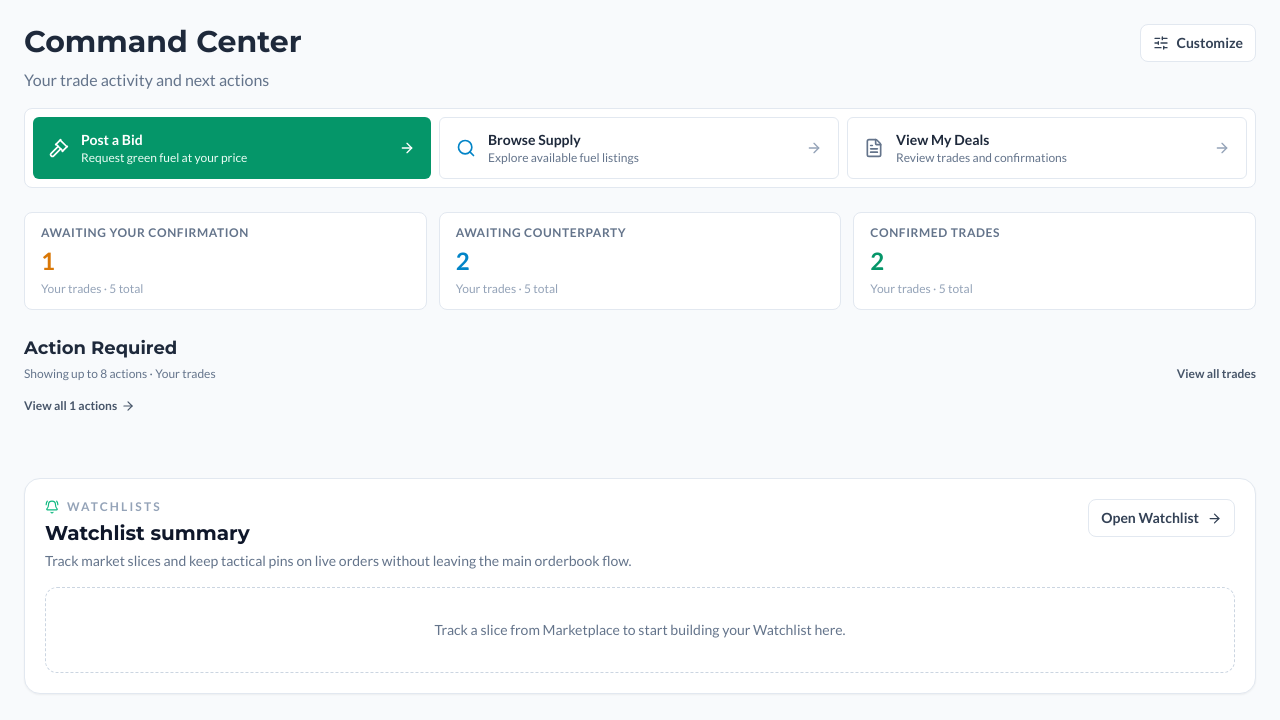
Scenario: customizable home › when the layout cannot be read › keeps edits in memory when saving is refused with 404
The width and height of the screenshot is (1280, 720).
Expected: the heading "Command Center" is shown, [24,24,302,60]
Click the button "Customize".
click(1198, 43)  # box [1140,24,1256,62]
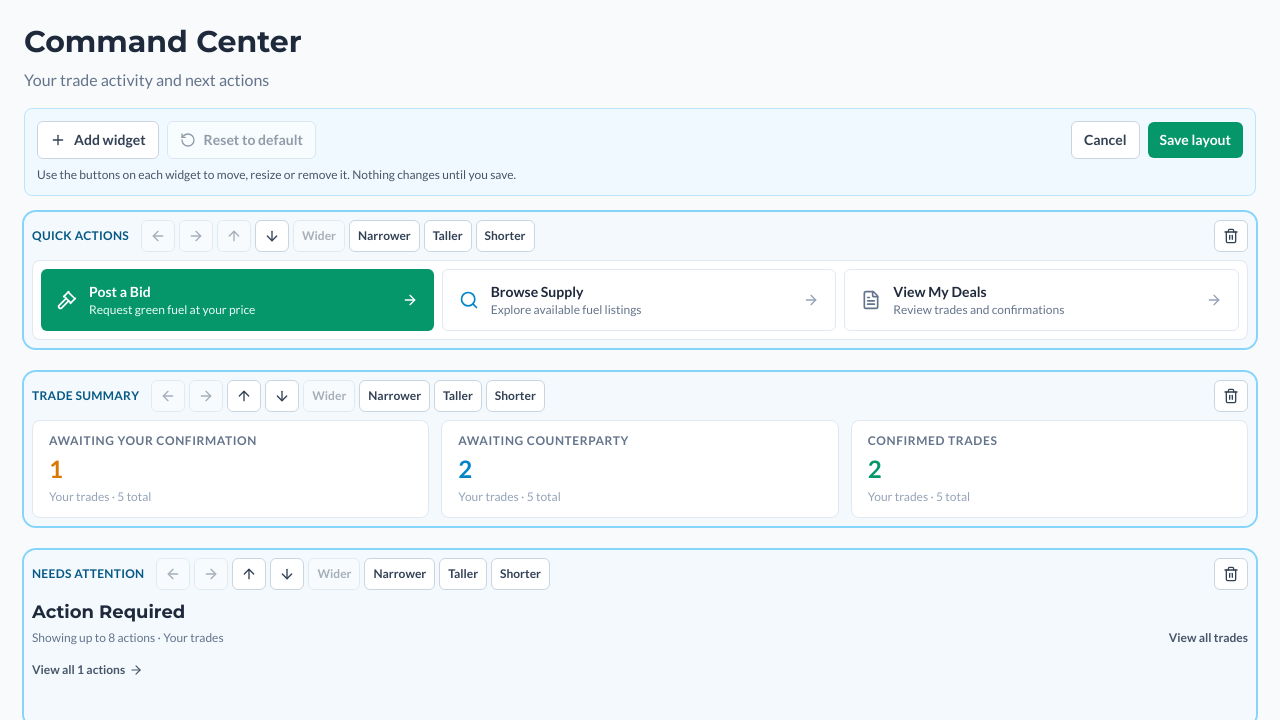
Expected: the element named "Customize home" is shown, [24,108,1256,196]
Click the button named "Remove Trade summary".
click(1231, 396)  # box [1214,380,1248,412]
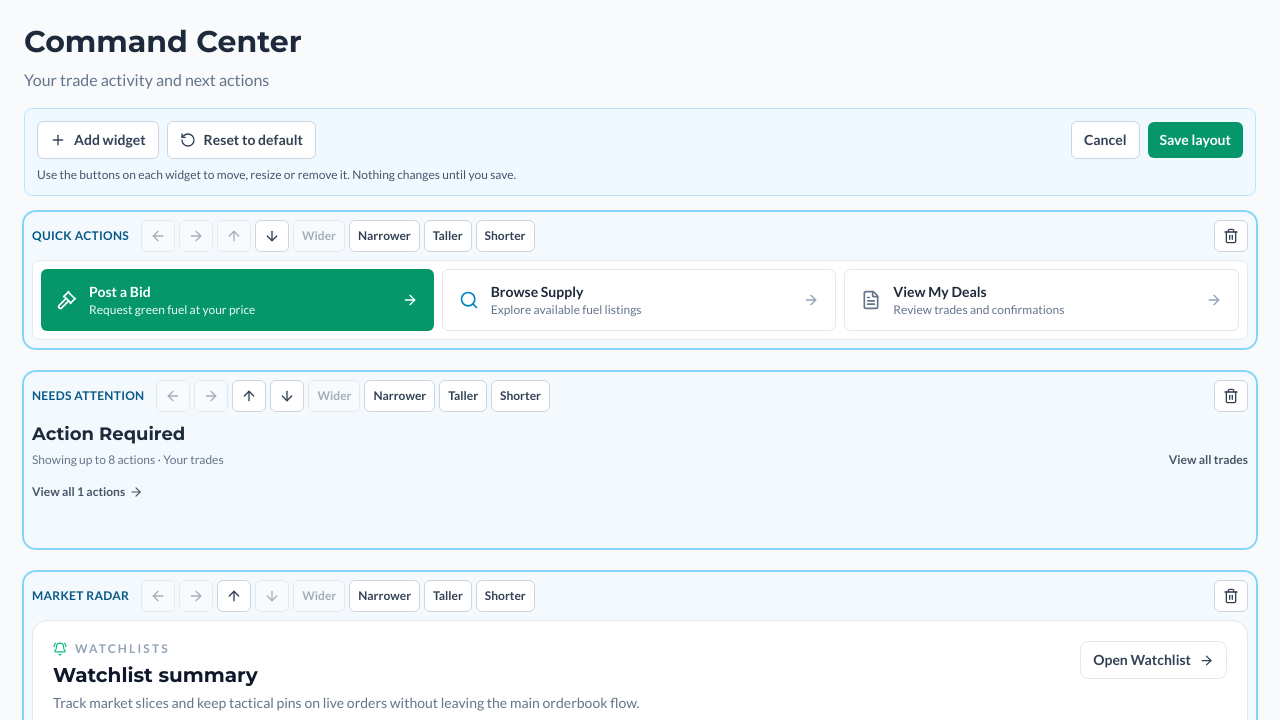
Click the button "Save layout".
click(1195, 140)  # box [1148,122,1243,158]
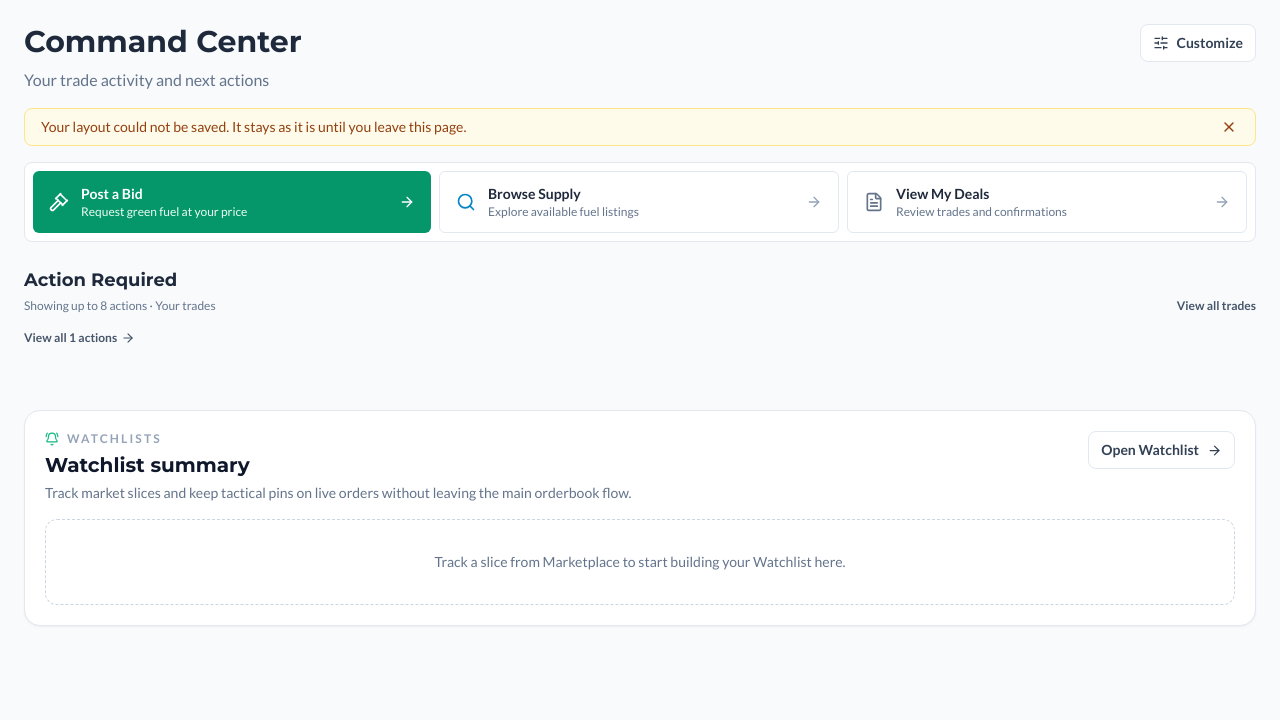
Expected: the text "Your layout could not be saved" is shown, [41,118,466,135]
